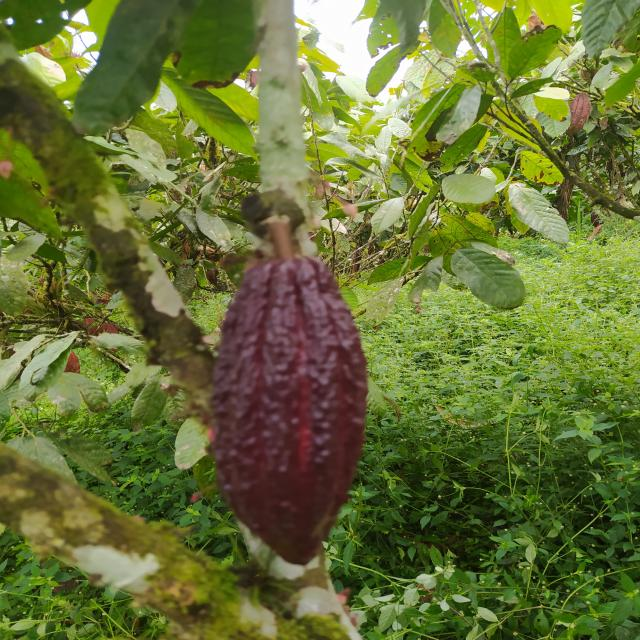Sana: (208, 256, 372, 568)
